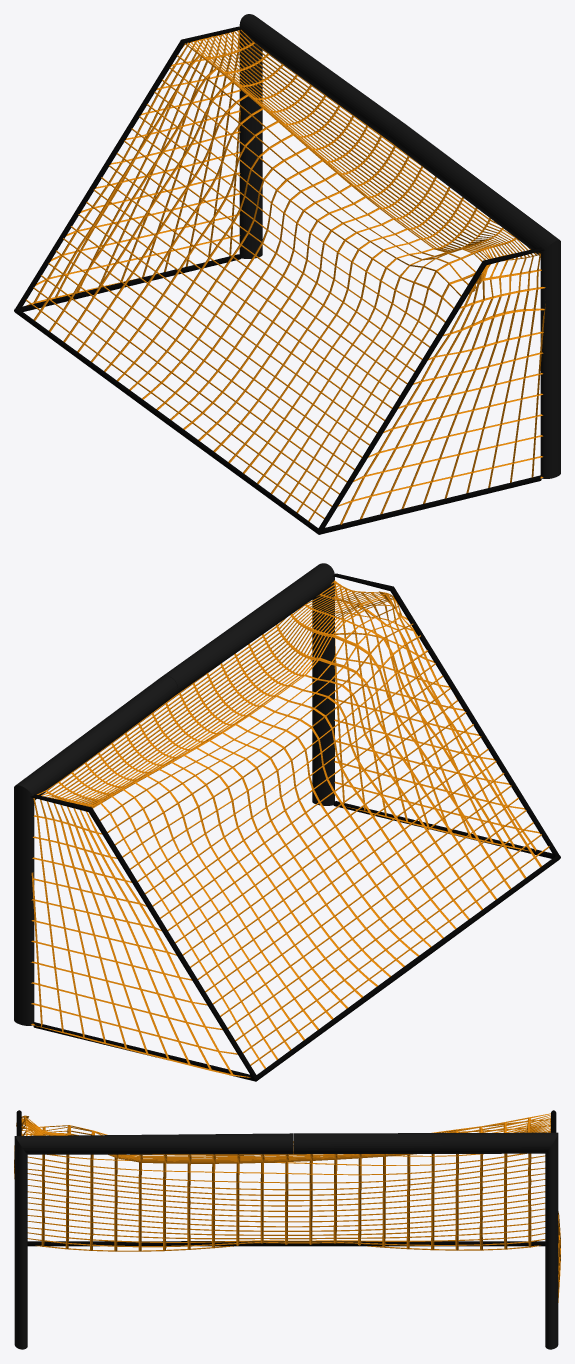
The model's file is GoalForUnity.fbx.
The picture shows the model from 3 angles, top to bottom: view 1: azimuth 30°, elevation 25°; view 2: azimuth 150°, elevation 25°; view 3: azimuth 270°, elevation 25°; orthographic projection. The views are drawn at different scales.
Visible parts, largest first — view 1: Tolppa, Plane; view 2: Tolppa, Plane; view 3: Tolppa, Plane.
Boxes of the visible parts, left/top/right/bottom form: Tolppa: left=25, top=14, right=560, bottom=524; Plane: left=14, top=26, right=544, bottom=534; Tolppa: left=14, top=563, right=549, bottom=1077; Plane: left=30, top=573, right=560, bottom=1081; Tolppa: left=14, top=1113, right=560, bottom=1349; Plane: left=16, top=1110, right=556, bottom=1246.
Bounding box in the file's own units: 488 × 461 × 1055.
